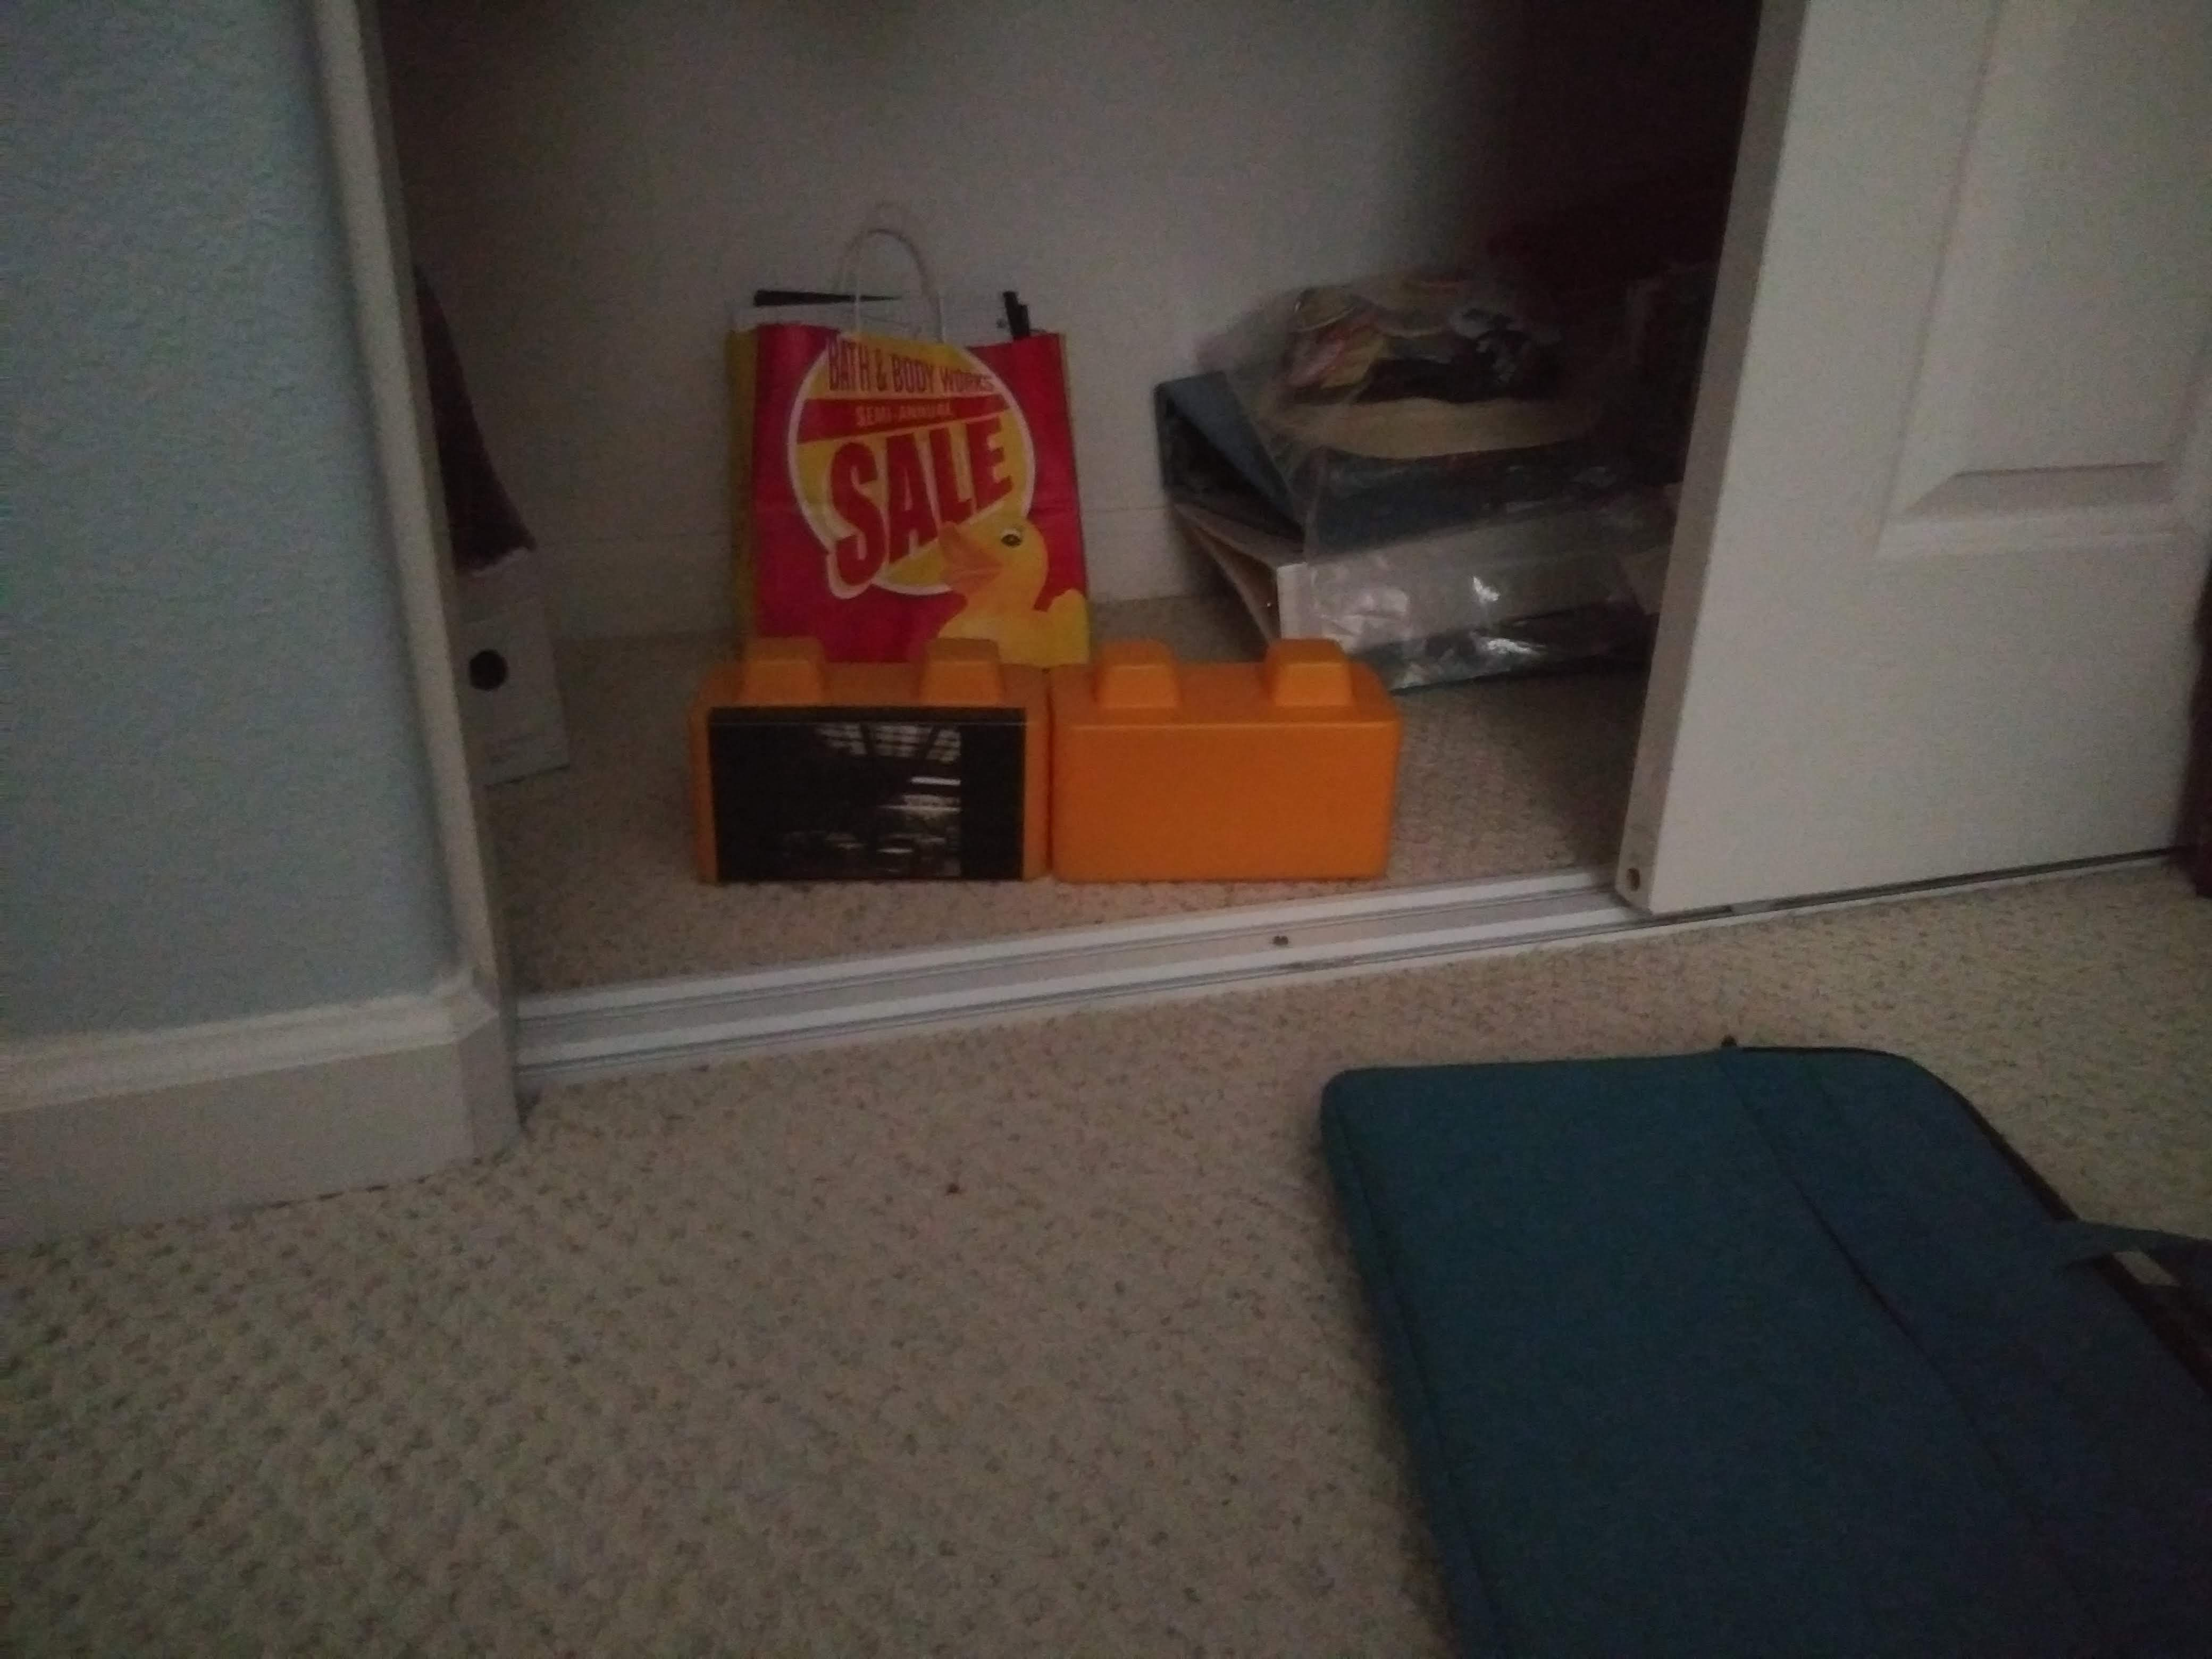skystone: (688, 662, 1042, 897)
stone: (1064, 676, 1386, 887)
